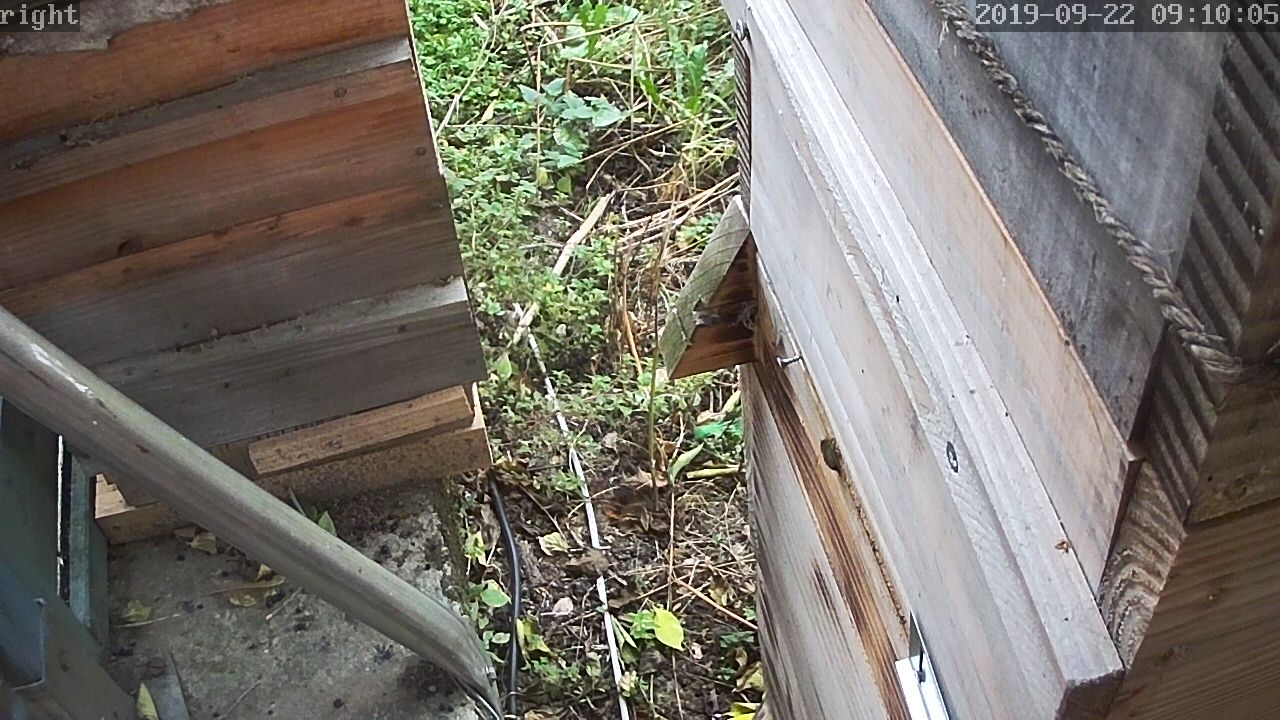bee: (817, 437, 846, 473)
